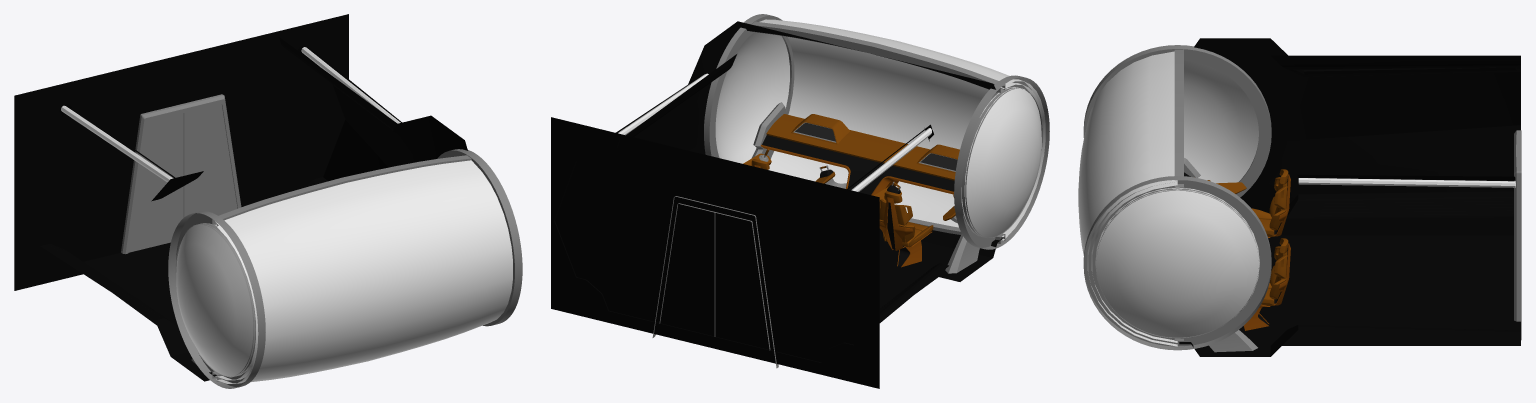
File: SpaceShip.fbx
3 views of the same model, side by side, from view 1: azimuth 30°, elevation 25°; view 2: azimuth 150°, elevation 25°; view 3: azimuth 270°, elevation 25° (orthographic). The views are drawn at different scales.
Visible parts, largest first — view 1: BodyIndoor, FrontWindow, SideWindows; view 2: BodyIndoor, FrontWindow, SideWindows, Console, Chair.003; view 3: BodyIndoor, SideWindows, FrontWindow, Chair, Chair.003, Console.
Part boxes in pixels (<box>): BodyIndoor: <box>14,14,522,388</box>; FrontWindow: <box>215,160,512,383</box>; SideWindows: <box>176,223,255,377</box>; BodyIndoor: <box>551,14,1049,388</box>; FrontWindow: <box>759,19,1045,240</box>; SideWindows: <box>715,32,1041,238</box>; Console: <box>743,102,979,273</box>; Chair.003: <box>879,191,933,267</box>; BodyIndoor: <box>1083,38,1521,356</box>; SideWindows: <box>1095,60,1259,338</box>; FrontWindow: <box>1078,51,1177,346</box>; Chair: <box>1244,238,1290,330</box>; Chair.003: <box>1251,169,1290,237</box>; Console: <box>1184,158,1257,352</box>.
Size of the model in its own units: 552 by 314 by 605.
